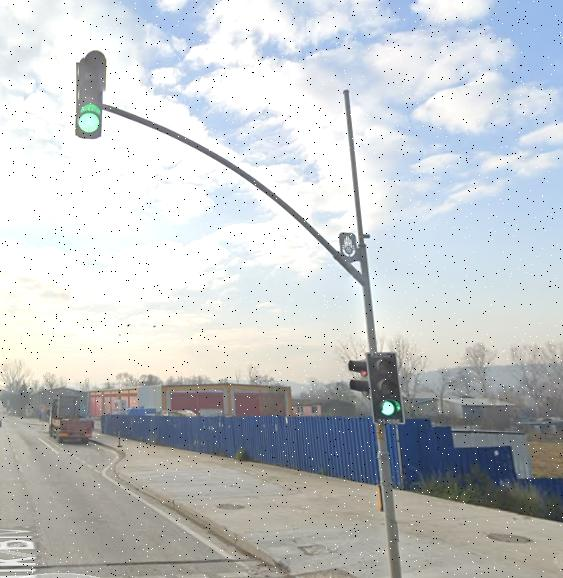greenlight: (372, 347, 404, 425), (77, 52, 105, 141)
